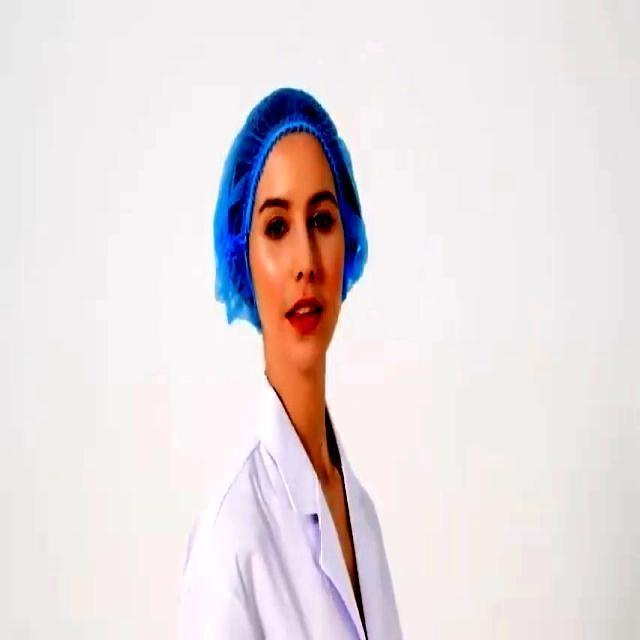gloves: (234, 95, 382, 194)
no_hairnet: (260, 246, 358, 349)
